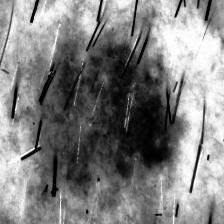Benign Marking or Mole: (17, 37, 178, 180)
